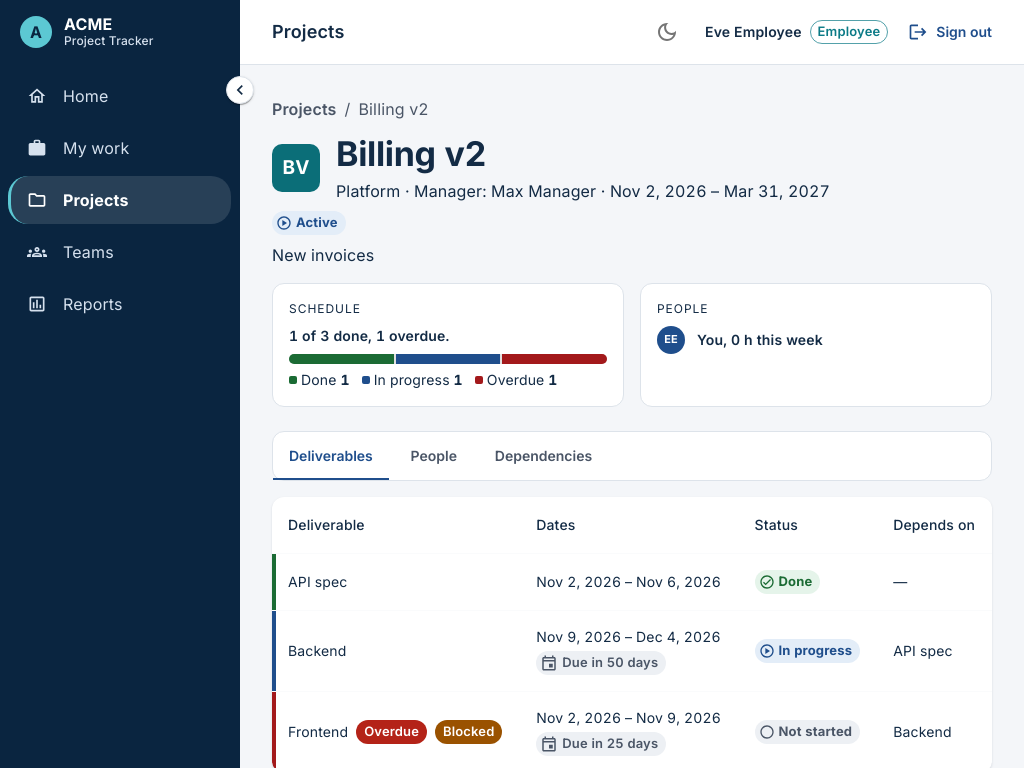
Test case: Dependencies tab › an employee can read it, with no buttons in it
Step 1. Click the tab "Dependencies" → (543, 456), box [479,432,608,480]
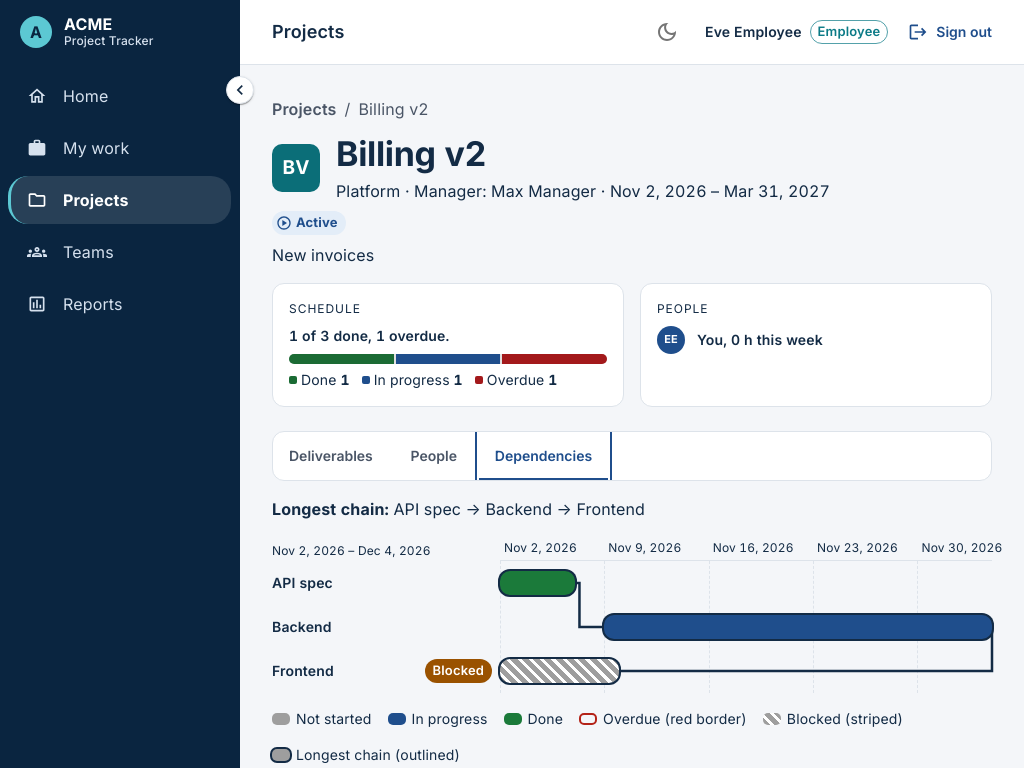
Check: the element named "Dependency timeline" is shown, box [272,537,992,693]
